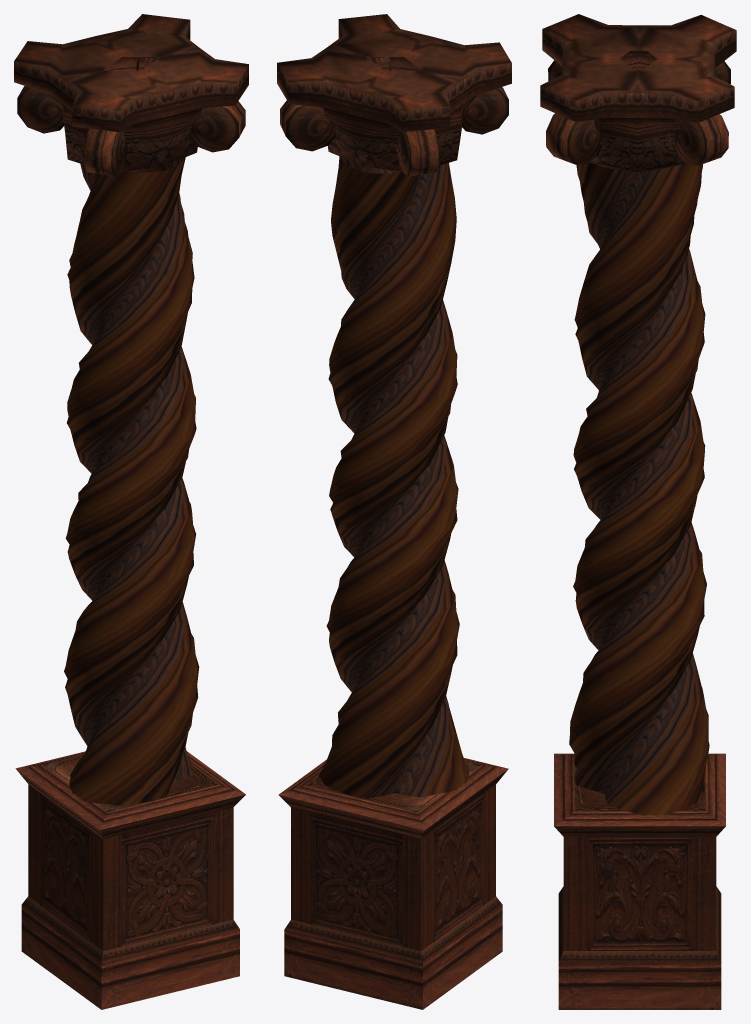
The model's file is Pillar_Twisted.fbx.
3 renders of one model, left to right at view 1: azimuth 30°, elevation 25°; view 2: azimuth 150°, elevation 25°; view 3: azimuth 270°, elevation 25°, orthographic.
Visible parts, largest first — view 1: ColumnTwisted_LOD0; view 2: ColumnTwisted_LOD0; view 3: ColumnTwisted_LOD0.
Part boxes in pixels (x1=…): ColumnTwisted_LOD0: x1=14, y1=14, x2=248, y2=1009; ColumnTwisted_LOD0: x1=277, y1=14, x2=511, y2=1009; ColumnTwisted_LOD0: x1=540, y1=14, x2=736, y2=1009.
Size of what is drawn, in the model's own units: 30.69 by 150 by 29.06.
